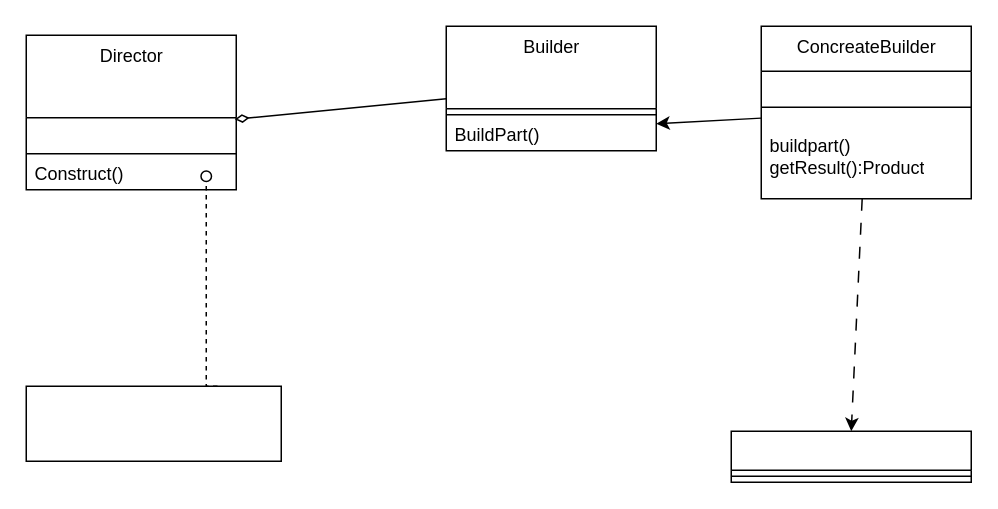
This 998x509 diagram has some shape labels left out. The centre of each missing label's shape, as x and y in pixels:
Product: pixel 850 456
This.builder.buildParts(): pixel 153 423
